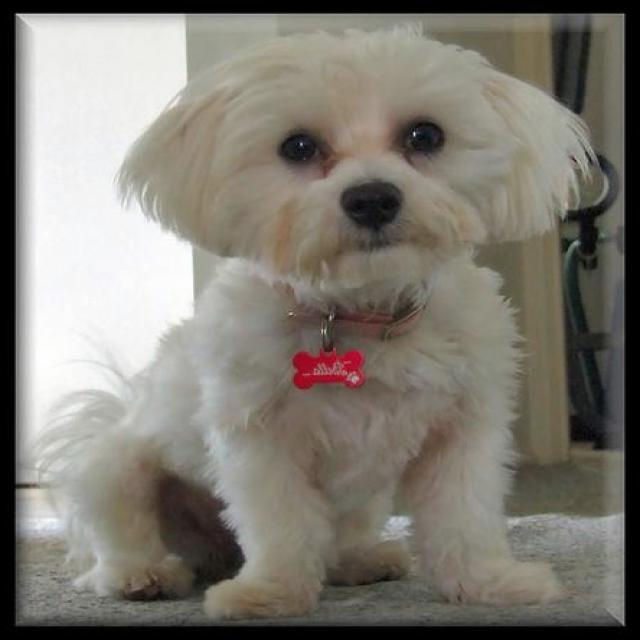maltese_dog: (33, 21, 595, 624)
